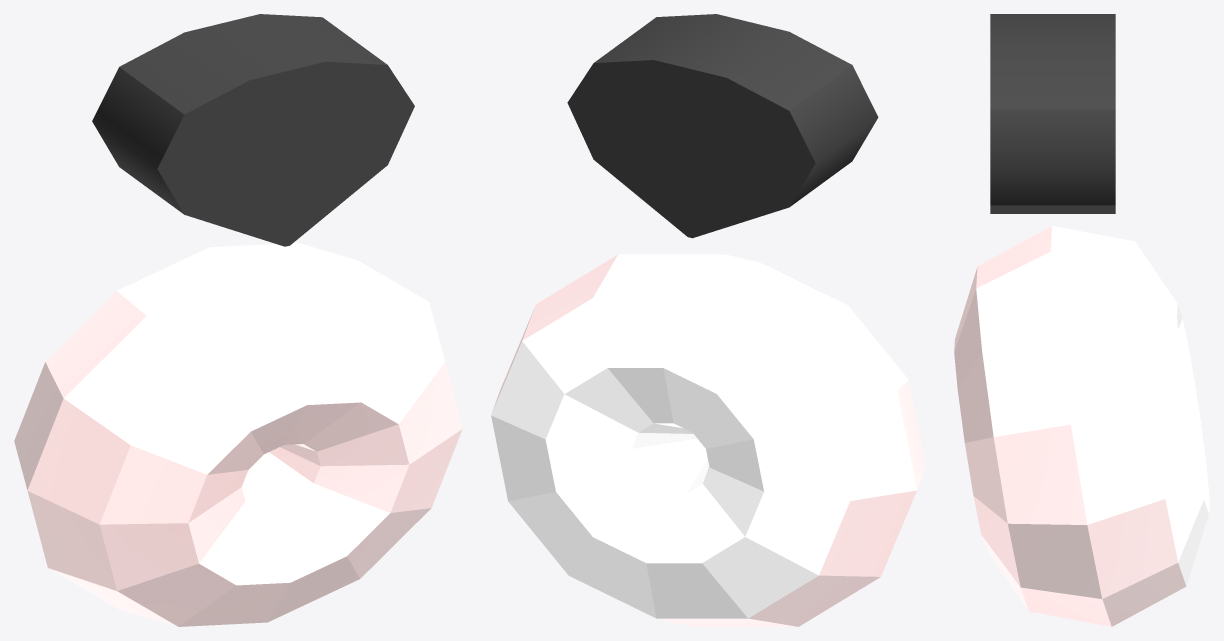
Rendered from NewJeans_HYEIN_mouth.gltf.
3 renders of one model, left to right at view 1: azimuth 30°, elevation 25°; view 2: azimuth 150°, elevation 25°; view 3: azimuth 270°, elevation 25°, orthographic. The views are drawn at different scales.
Visible parts, largest first — view 1: HYEIN_mouth, nose; view 2: HYEIN_mouth, nose; view 3: HYEIN_mouth, nose.
Part boxes in pixels (x1,y1,x2,y2): HYEIN_mouth: (14,243,462,626); nose: (92,14,414,246); HYEIN_mouth: (491,254,925,626); nose: (567,14,878,238); HYEIN_mouth: (954,226,1209,626); nose: (990,14,1115,213).
Bounding box in the file's own units: 0.00606 × 0.00786 × 0.00327.
2 materials, 1 textured.
